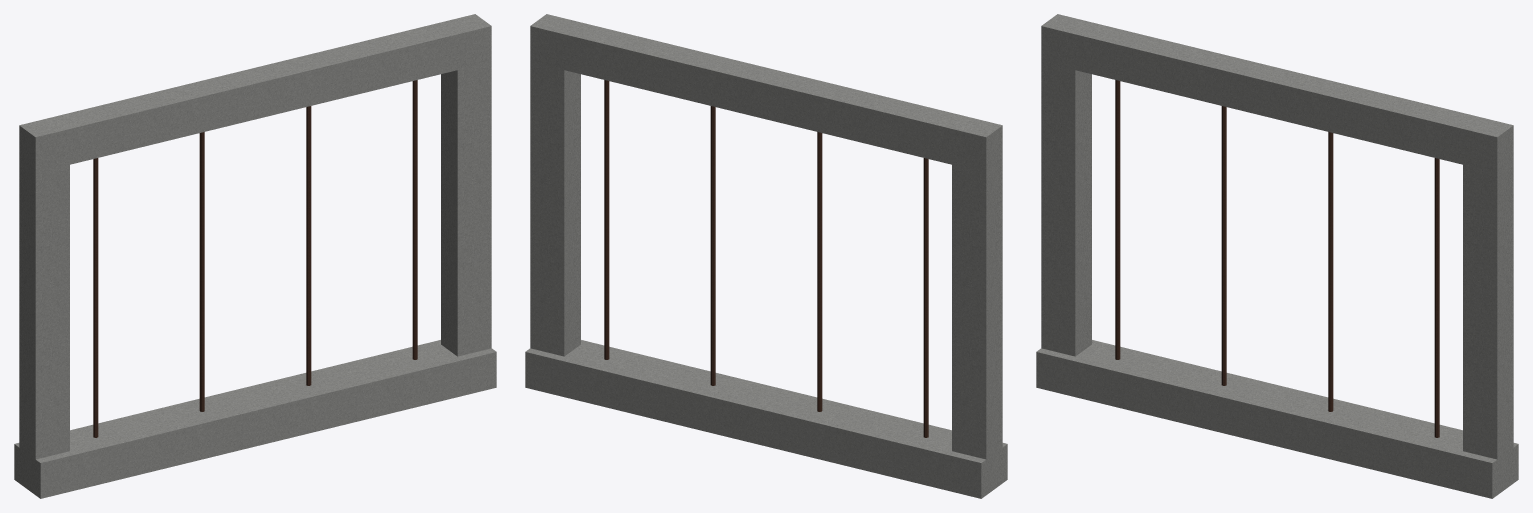
File: estate_wall_window_2f.glb
The picture shows the model from 3 angles, left to right: view 1: azimuth 30°, elevation 25°; view 2: azimuth 150°, elevation 25°; view 3: azimuth 330°, elevation 25°; orthographic projection.
Parts seen in each view (by area): view 1: Cube, Cube.003, Cube.001, Cube.002, Cylinder, Cylinder.002, Cylinder.001, Cylinder.003; view 2: Cube, Cube.003, Cube.001, Cube.002, Cylinder, Cylinder.002, Cylinder.001, Cylinder.003; view 3: Cube, Cube.003, Cube.002, Cube.001, Cylinder.001, Cylinder.003, Cylinder, Cylinder.002.
Part boxes in pixels (box(x1,y1,x2,y2)): Cube: box(14, 340, 496, 498); Cube.003: box(19, 14, 491, 172); Cube.001: box(19, 161, 69, 459); Cube.002: box(441, 62, 491, 356); Cylinder: box(93, 158, 98, 437); Cylinder.002: box(306, 106, 311, 385); Cylinder.001: box(199, 132, 204, 411); Cylinder.003: box(412, 80, 417, 359); Cube: box(525, 340, 1007, 498); Cube.003: box(530, 14, 1002, 172); Cube.001: box(952, 161, 1002, 459); Cube.002: box(530, 62, 580, 356); Cylinder: box(923, 158, 928, 437); Cylinder.002: box(710, 106, 715, 385); Cylinder.001: box(817, 132, 822, 411); Cylinder.003: box(604, 80, 609, 359); Cube: box(1036, 340, 1518, 498); Cube.003: box(1041, 14, 1513, 172); Cube.002: box(1463, 161, 1513, 459); Cube.001: box(1041, 62, 1091, 356); Cylinder.001: box(1221, 106, 1226, 385); Cylinder.003: box(1434, 158, 1439, 437); Cylinder: box(1115, 80, 1120, 359); Cylinder.002: box(1328, 132, 1333, 411).
Size of the model in its own units: 4 by 3 by 0.4.
Materials: 2 (2 with a texture image).
